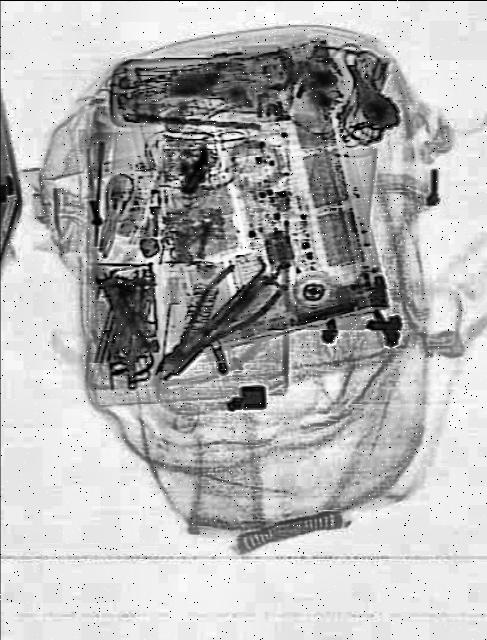Pliers: (141, 246, 285, 407)
